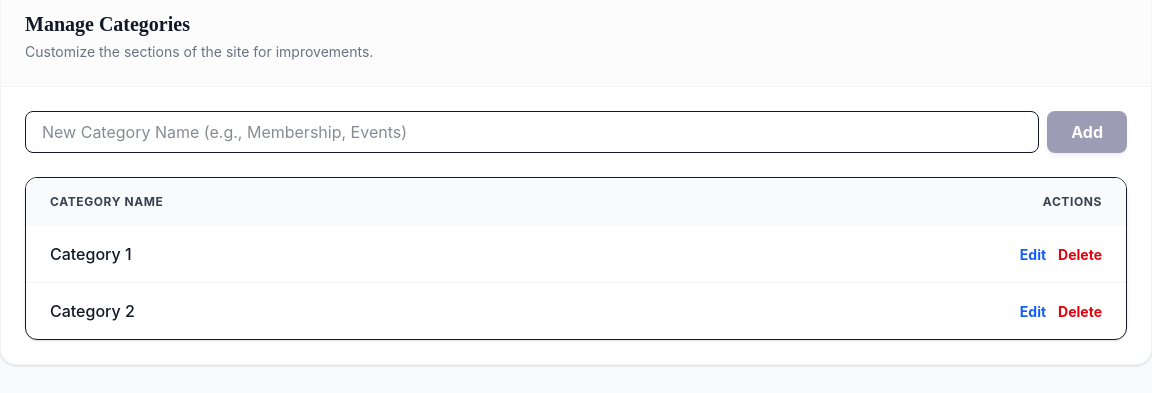
Test: CategoryManager UI › allows cancelling an edit
This screenshot has width=1152, height=393.
Click the button "Edit" in the row of "Category 1". click: coordinates (1033, 255)
box: [1020,245,1046,265]
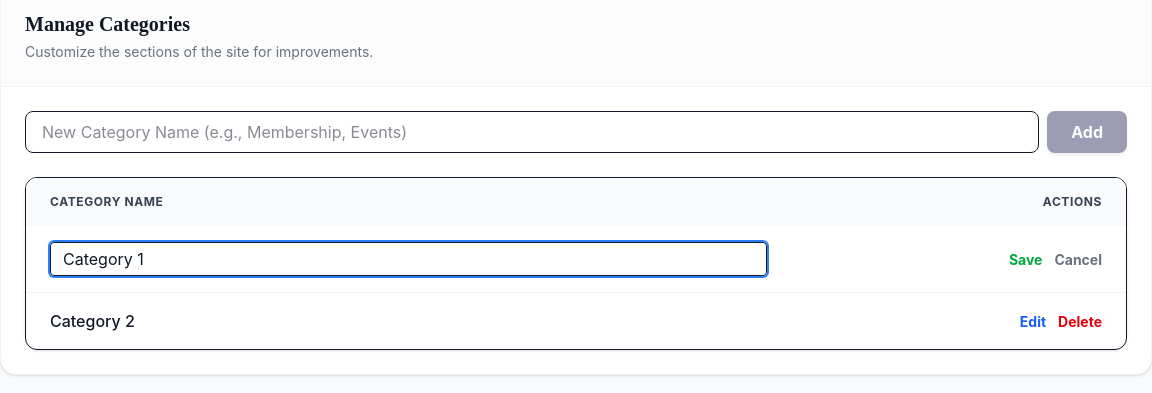
Check: the field showing "Category 1" is shown, box [50,242,767,276]
Click the button "Cancel". click: coordinates (1078, 260)
box: [1054,250,1102,270]
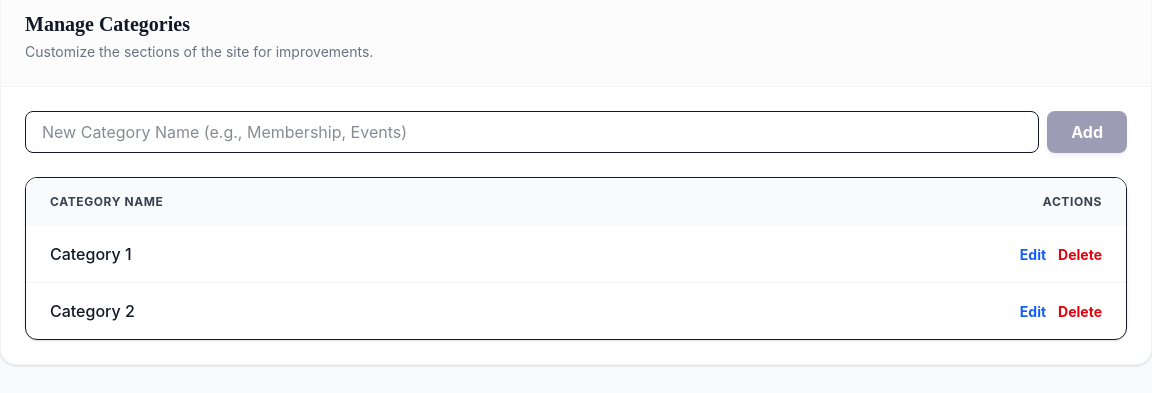
Check: the text "Category 1" is shown, box [50,244,132,264]
